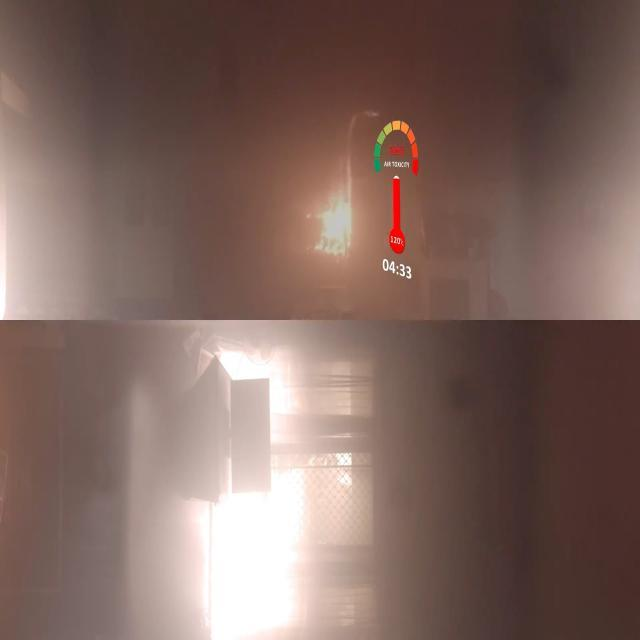Fire: (218, 508, 301, 636), (316, 180, 354, 260)
